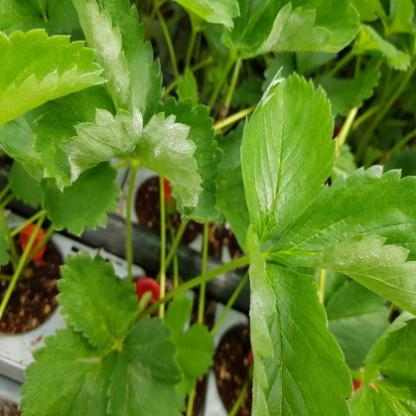Strawberry_Powdery_Mildew_Leaf: (266, 165, 416, 315), (246, 225, 354, 415), (239, 67, 337, 242), (30, 84, 144, 194), (72, 0, 166, 124), (132, 96, 224, 222)
